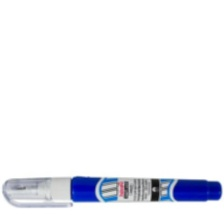correction_fluid: (1, 174, 223, 209)
